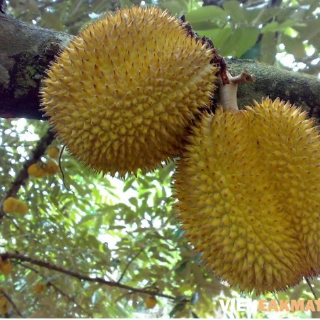sau_rieng: (40, 6, 224, 176), (177, 97, 318, 294)
